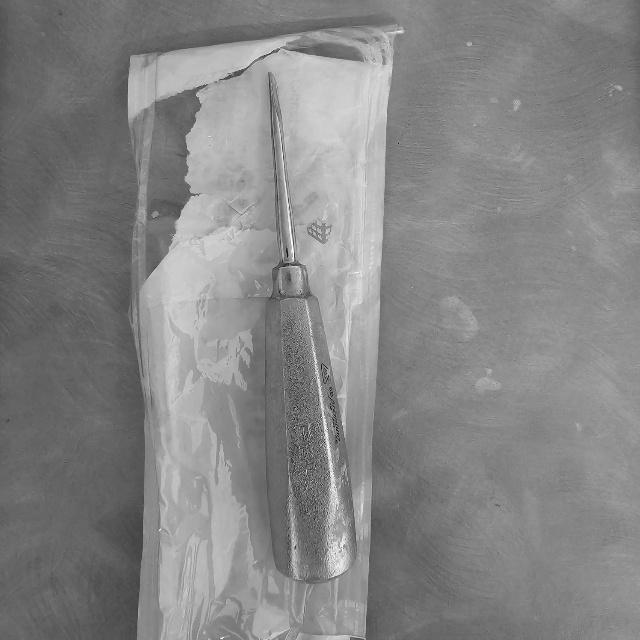botador: (258, 72, 356, 586)
